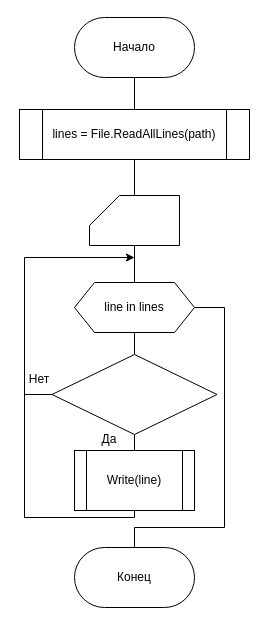
Some shapes in this 267 by 625 pixel diagram are drawn without their labels. Each missing label, with the centre of its shape:
"line.Split()[1] > minSum" goes at [134,394].
"minSum" goes at [134,220].
